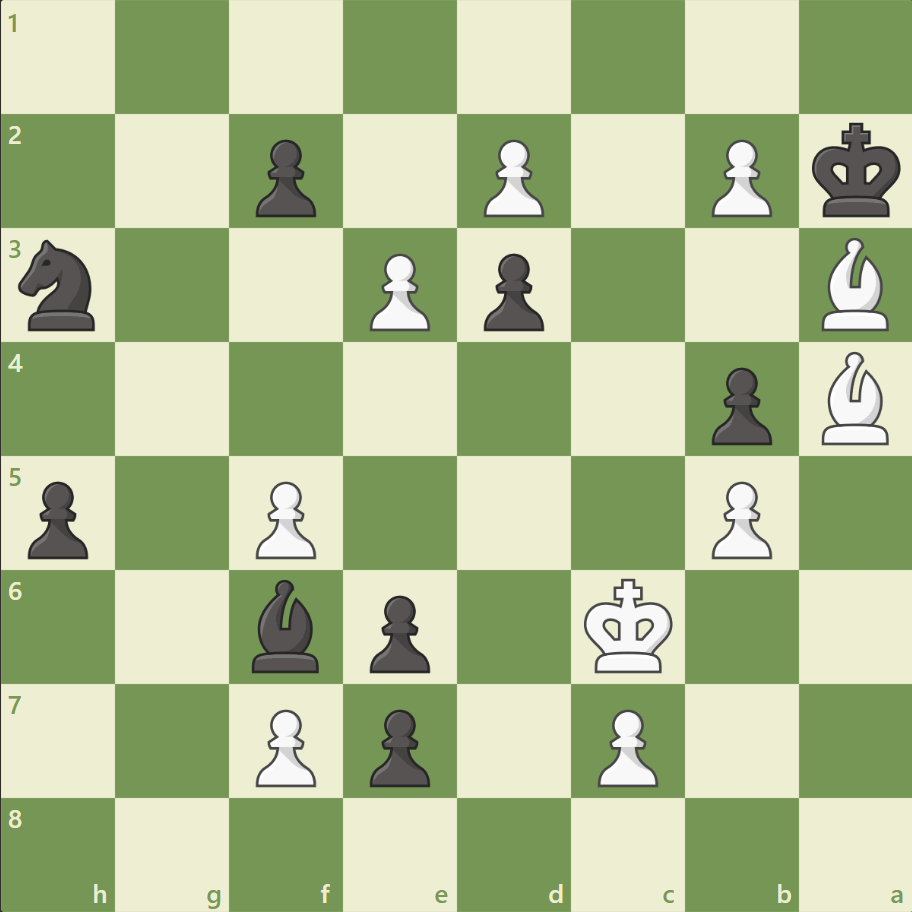B: (812, 233, 896, 336), (812, 347, 896, 449)
K: (579, 571, 679, 679)
P: (247, 700, 322, 791), (701, 473, 776, 564), (247, 473, 322, 564), (701, 132, 776, 223), (474, 132, 549, 223), (588, 700, 662, 791), (361, 246, 435, 337)
b: (244, 574, 328, 676)
k: (806, 117, 906, 225)
n: (11, 234, 108, 337)
p: (20, 473, 95, 564), (701, 359, 776, 450), (474, 246, 549, 337), (247, 132, 322, 223), (361, 700, 435, 791), (361, 586, 435, 677)
